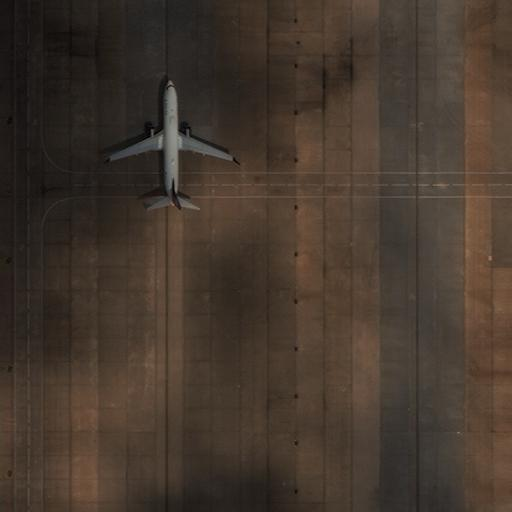Medium Civil Transport: (103, 77, 232, 211)
